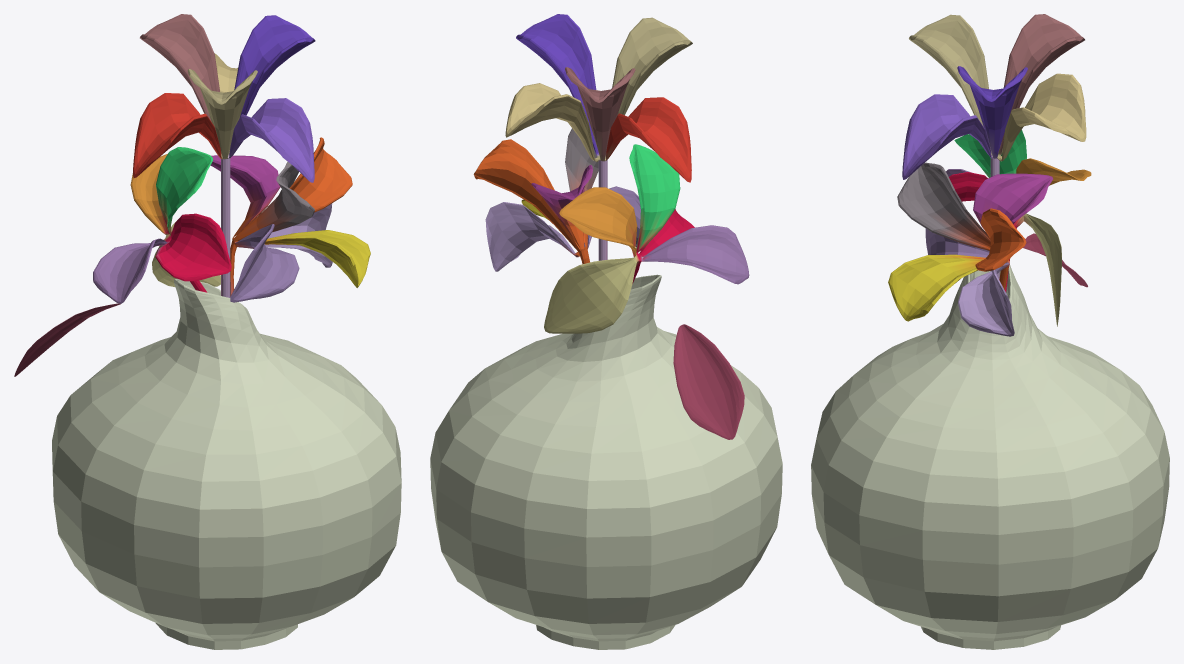
3 renders of one model, left to right at view 1: azimuth 30°, elevation 25°; view 2: azimuth 150°, elevation 25°; view 3: azimuth 270°, elevation 25°, orthographic.
Parts seen in each view (by area): view 1: world; view 2: world; view 3: world.
Boxes of the visible parts, box(x1,y1,x2,y2) form: world: box(14, 14, 401, 649); world: box(430, 14, 782, 649); world: box(811, 14, 1169, 649).
Bounding box in the file's own units: 0.5816 × 1 × 0.5597.
